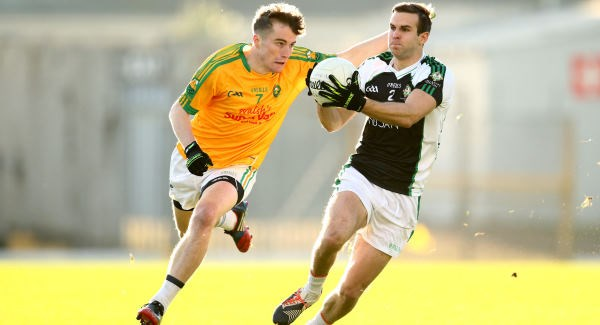ball: (306, 59, 352, 98)
player: (331, 9, 464, 311), (169, 3, 312, 270)
